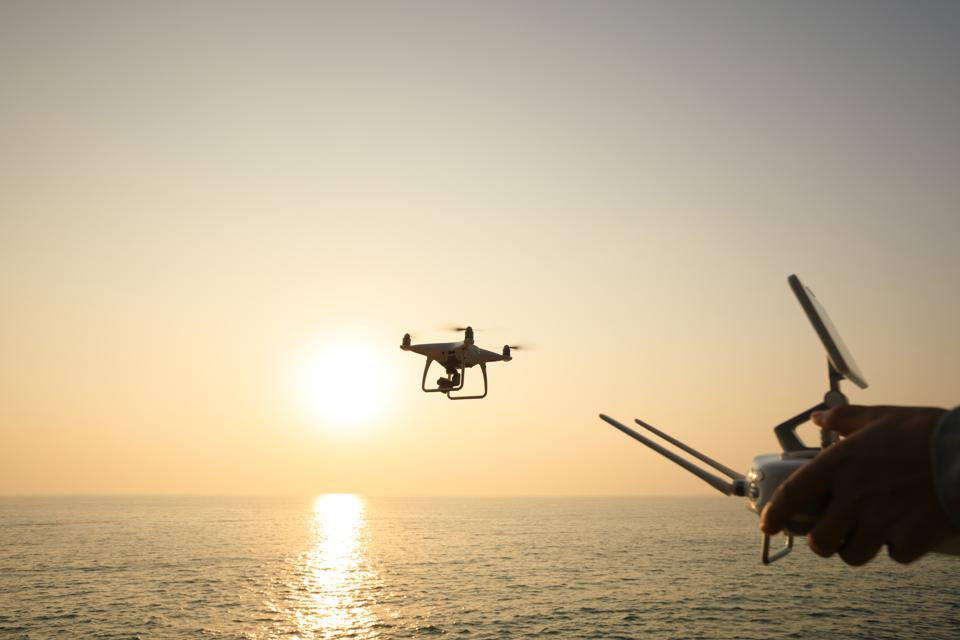drone: (393, 324, 515, 402)
